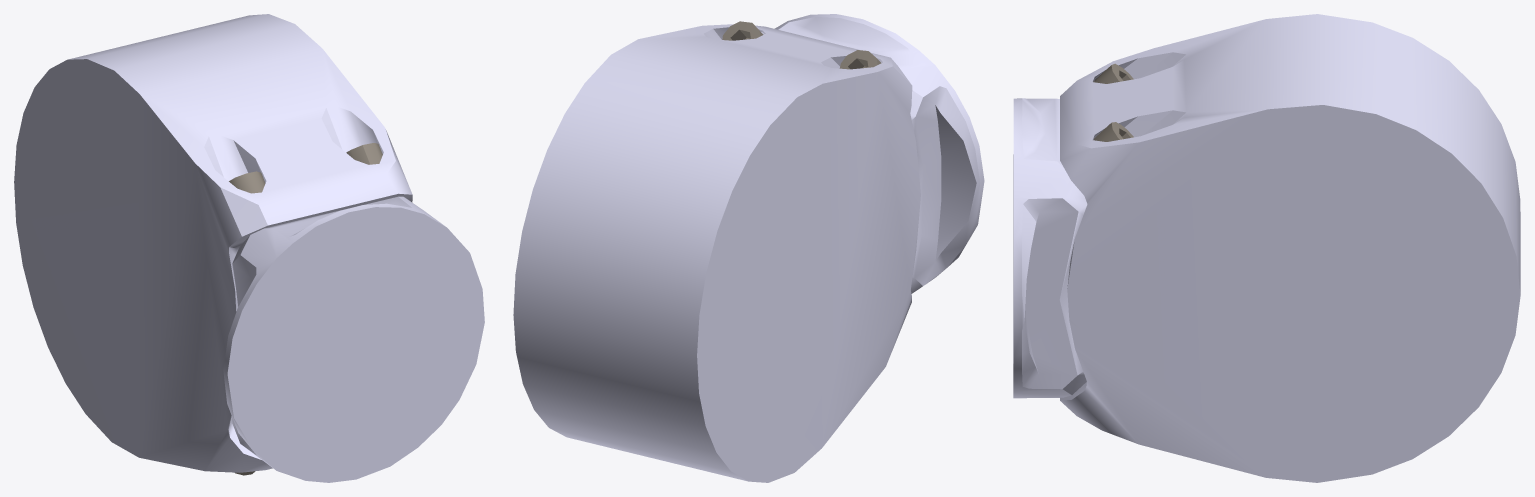
File: right-hip-yaw.obj
3 renders of one model, left to right at view 1: azimuth 30°, elevation 25°; view 2: azimuth 150°, elevation 25°; view 3: azimuth 270°, elevation 25°, orthographic.
Visible parts, largest first — view 1: right_hip_yaw; view 2: right_hip_yaw; view 3: right_hip_yaw.
Part boxes in pixels (x1,y1,x2,y2): right_hip_yaw: [14, 14, 484, 482]; right_hip_yaw: [513, 14, 984, 482]; right_hip_yaw: [1013, 14, 1520, 482].
Size of the model in its own units: 0.0702 by 0.0973 by 0.1182.
Materials: 1 (1 with a texture image).
